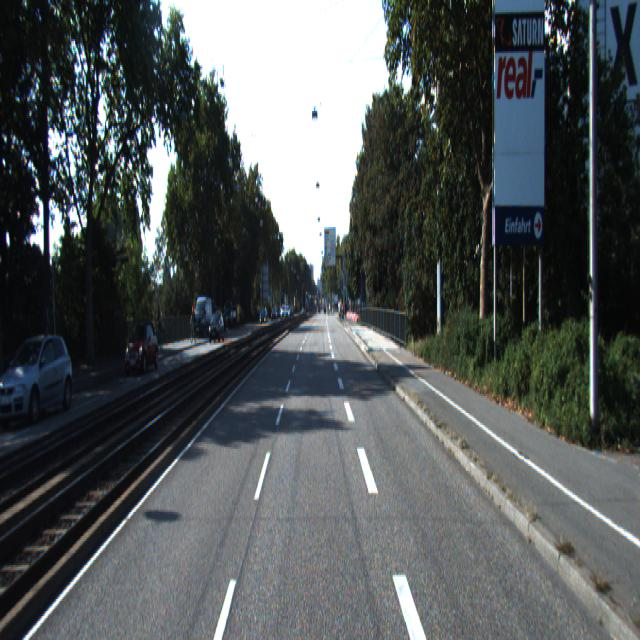Car: (0, 326, 79, 423), (124, 322, 160, 374)
